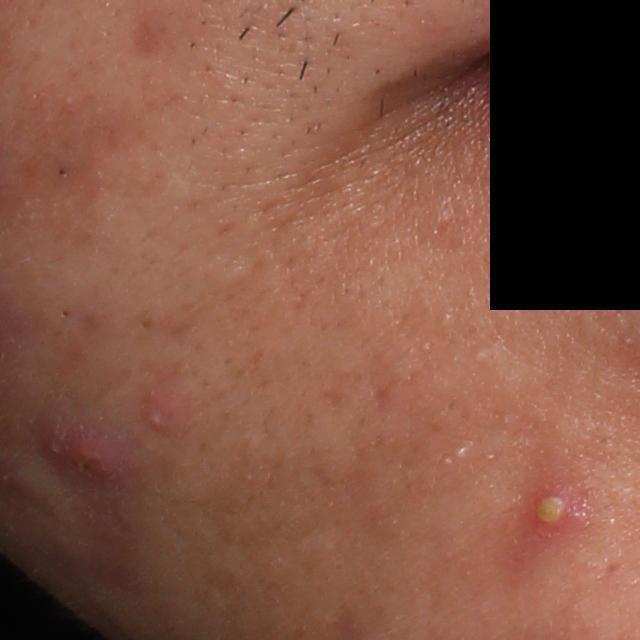hypertrophic_scar: (212, 257, 252, 292)
papule: (63, 430, 121, 491)
pustule: (524, 474, 576, 534)
